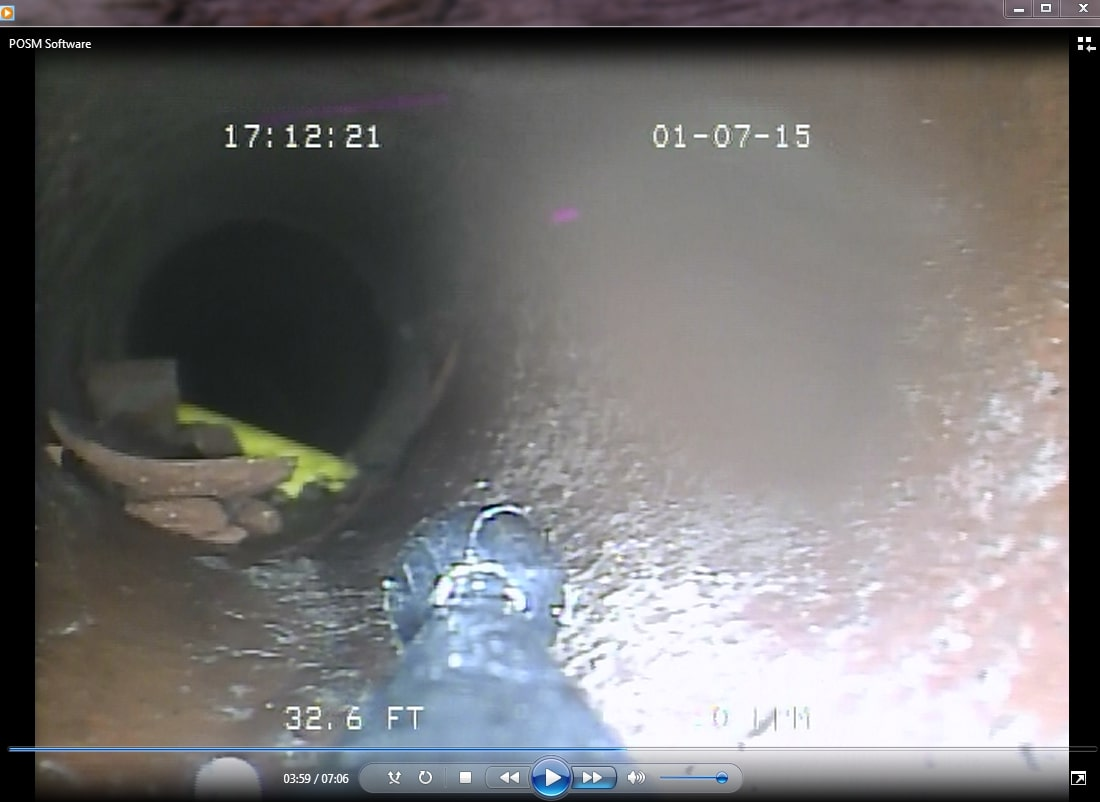cb: (170, 385, 377, 514)
